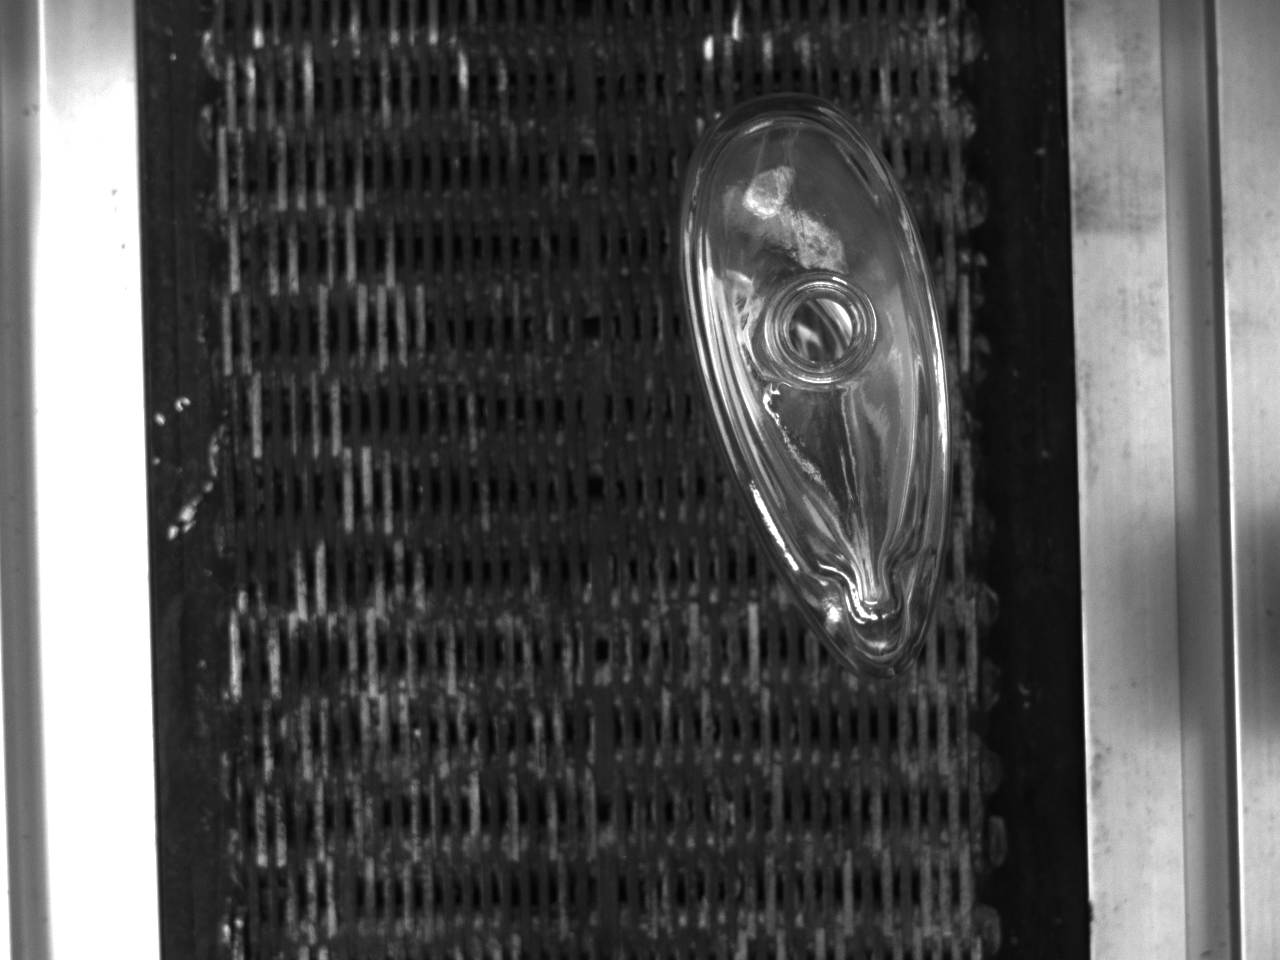bottleneck: (765, 274, 879, 385)
